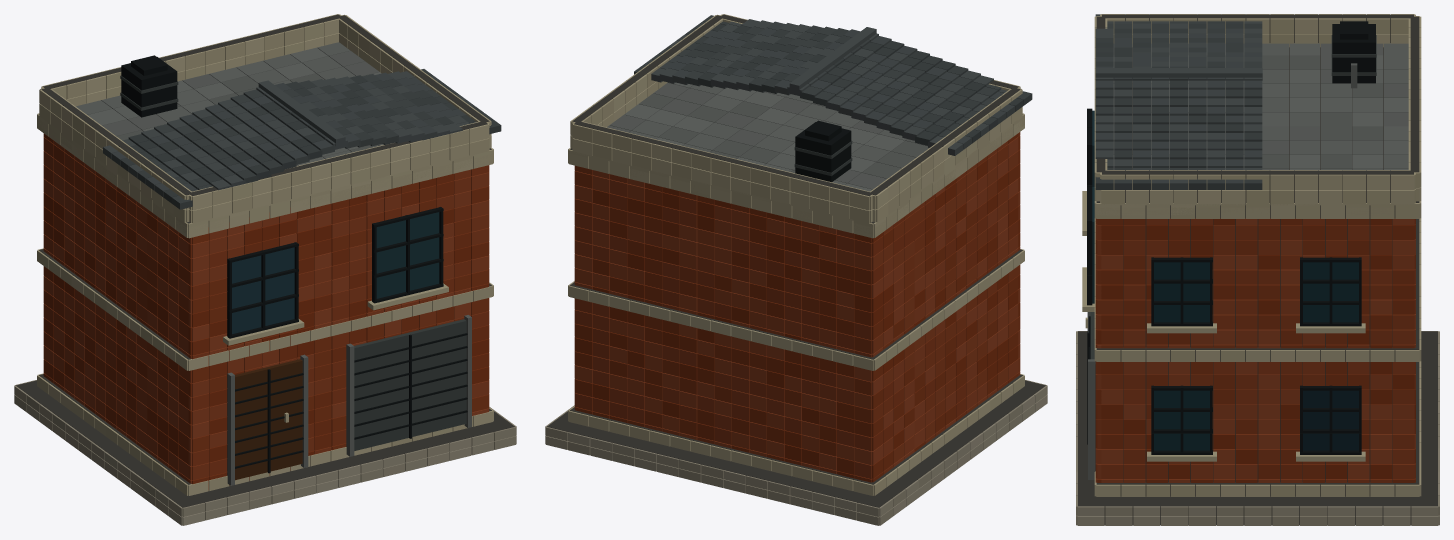
The model's file is SM_Mapa_048.fbx.
3 views of the same model, side by side, from view 1: azimuth 30°, elevation 25°; view 2: azimuth 150°, elevation 25°; view 3: azimuth 270°, elevation 25° (orthographic). The views are drawn at different scales.
Parts seen in each view (by area): view 1: SM_Mapa_048; view 2: SM_Mapa_048; view 3: SM_Mapa_048.
Part boxes in pixels (x1,y1,x2,y2): SM_Mapa_048: (14,14,516,525); SM_Mapa_048: (545,14,1047,525); SM_Mapa_048: (1076,14,1439,525).
Size of the model in its own units: 8 by 6.97 by 7.88.
